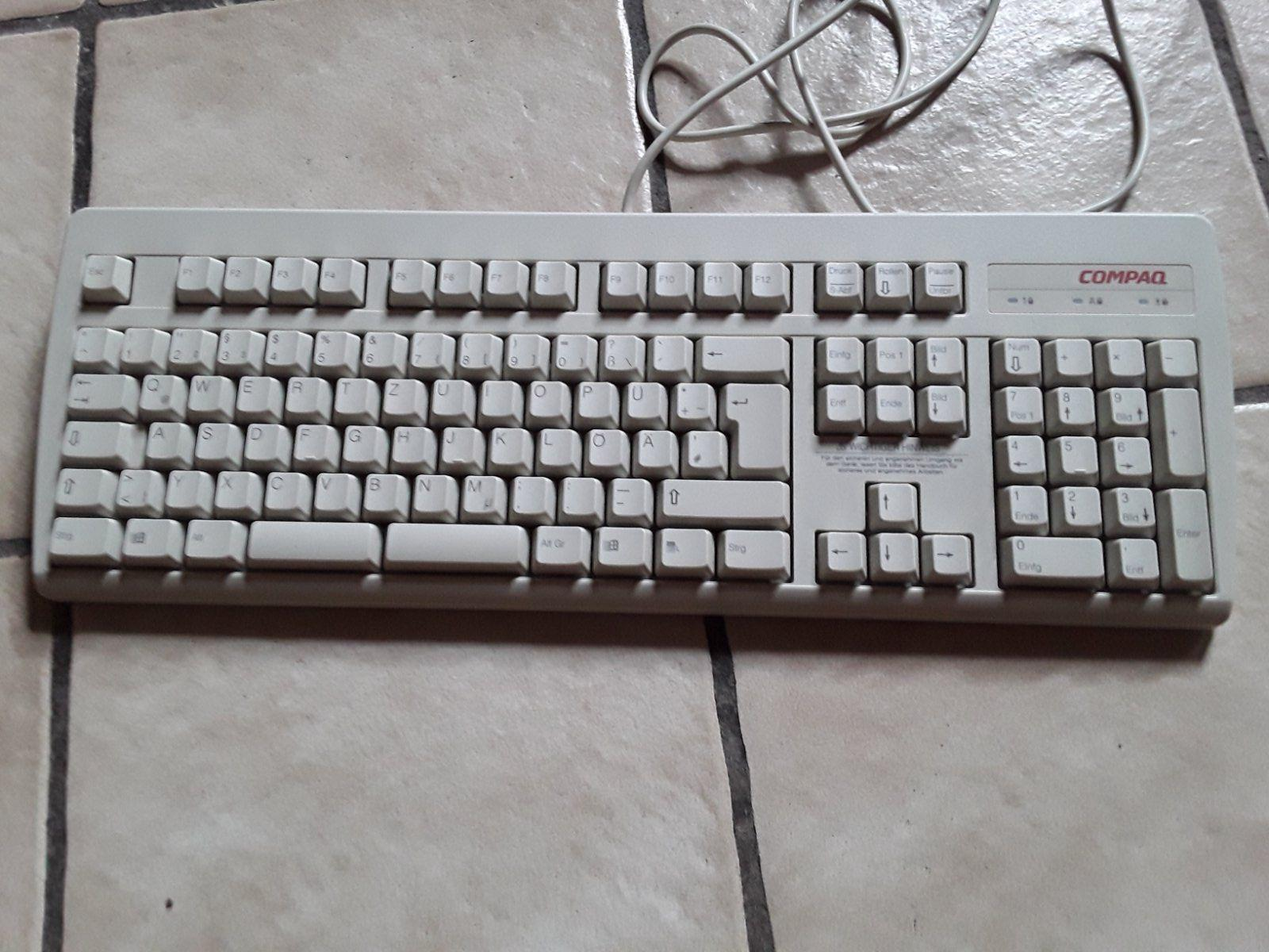0: (552, 332, 595, 370)
1: (119, 324, 159, 363)
2: (167, 325, 216, 365)
3: (215, 325, 260, 365)
4: (264, 326, 304, 365)
5: (312, 328, 357, 366)
6: (360, 328, 402, 367)
7: (408, 329, 454, 367)
8: (457, 329, 502, 369)
9: (504, 330, 549, 370)
a: (144, 419, 191, 459)
accent: (650, 332, 690, 370)
ae: (635, 427, 677, 466)
alt-left: (182, 516, 245, 559)
altgr-right: (532, 522, 588, 565)
b: (362, 471, 407, 512)
c: (263, 469, 309, 510)
caret: (71, 324, 112, 363)
comma: (510, 473, 553, 514)
d: (243, 420, 289, 461)
del: (698, 332, 788, 371)
e: (236, 373, 277, 410)
enter: (719, 380, 787, 469)
f: (293, 421, 337, 461)
g: (341, 422, 385, 462)
h: (390, 423, 434, 463)
hash: (684, 428, 725, 468)
i: (480, 377, 520, 415)
j: (439, 424, 482, 464)
k: (488, 424, 531, 463)
keyboard: (29, 206, 1240, 633)
l: (537, 426, 577, 464)
less: (114, 466, 162, 508)
m: (461, 472, 504, 513)
minus: (608, 475, 651, 515)
n: (412, 471, 456, 511)
o: (527, 378, 567, 416)
oe: (585, 426, 627, 466)
p: (576, 378, 615, 416)
plus: (674, 379, 713, 418)
point: (561, 474, 602, 514)
q: (137, 371, 183, 411)
r: (284, 374, 328, 412)
s: (194, 419, 234, 459)
shift-left: (52, 465, 105, 505)
shift-lock: (59, 418, 140, 460)
shift-right: (660, 476, 788, 516)
space: (385, 520, 526, 563), (247, 518, 378, 561)
ss: (600, 332, 642, 370)
strg-left: (45, 513, 121, 557)
strg-right: (717, 527, 790, 570)
t: (334, 374, 374, 413)
tab: (66, 370, 135, 409)
u: (430, 376, 473, 414)
ue: (624, 378, 665, 418)
v: (312, 470, 358, 511)
w: (186, 372, 230, 410)
x: (214, 468, 261, 509)
y: (164, 467, 211, 509)
z: (381, 375, 424, 414)
